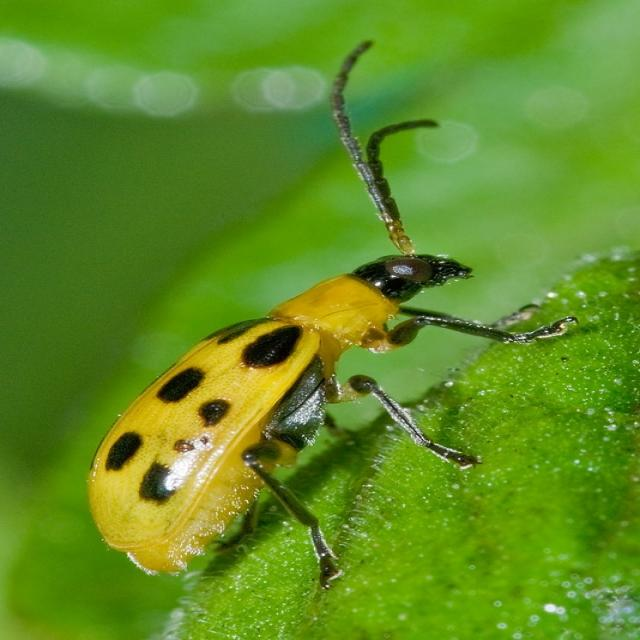cucumber_beetle: (49, 21, 544, 588)
